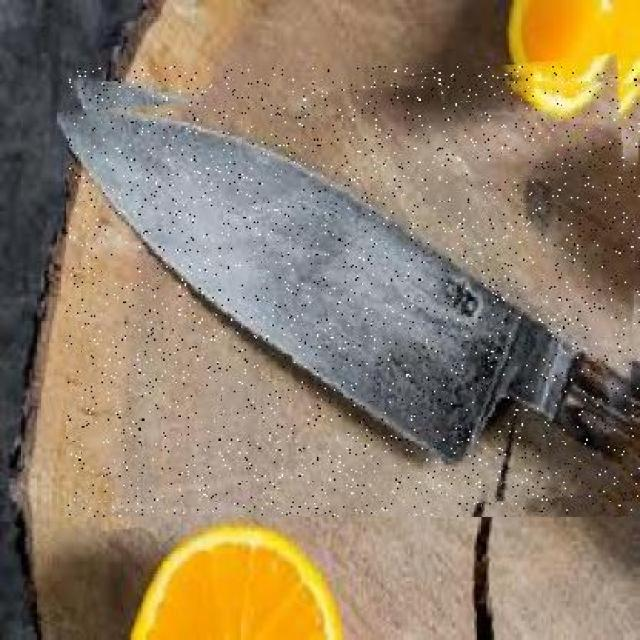knife: (66, 66, 640, 517)
